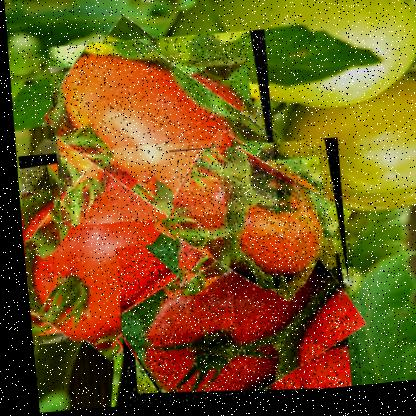tomato: (42, 29, 276, 231), (12, 139, 231, 349), (105, 230, 357, 408), (161, 140, 345, 302)
